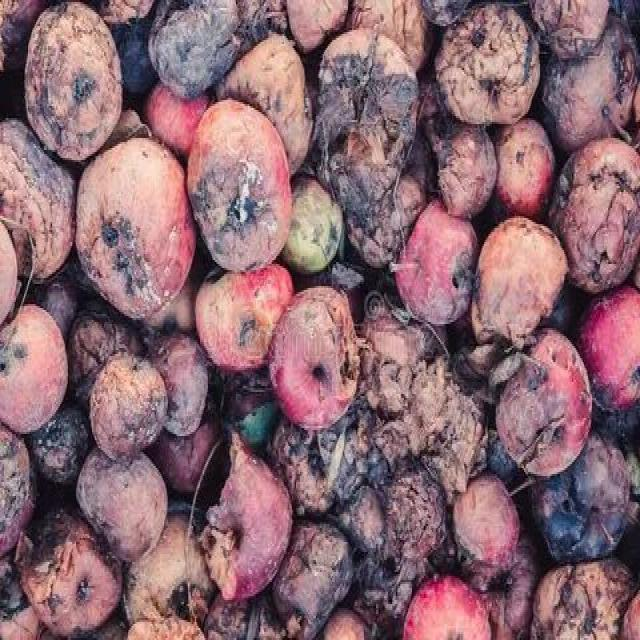Rotten: (182, 102, 293, 273), (65, 153, 182, 307), (262, 293, 363, 445), (498, 350, 584, 470)
